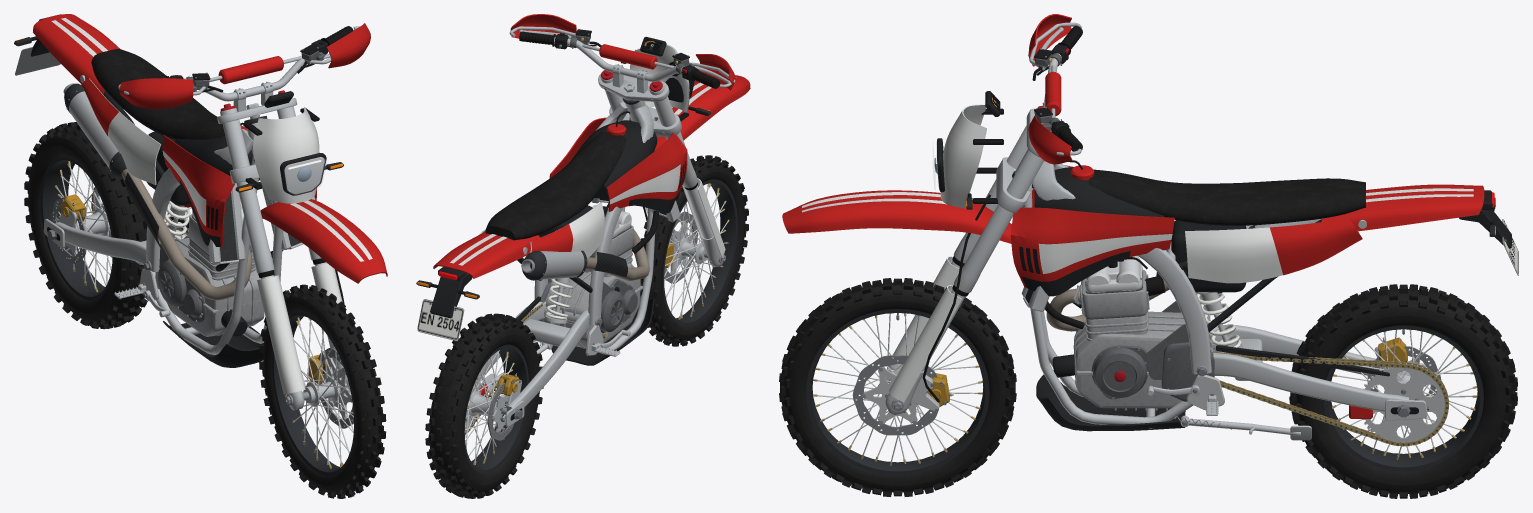
The model's file is Enduro.glb.
3 views of the same model, side by side, from view 1: azimuth 30°, elevation 25°; view 2: azimuth 150°, elevation 25°; view 3: azimuth 270°, elevation 25° (orthographic). The views are drawn at different scales.
Parts seen in each view (by area): view 1: Body, Fork, Wheel_Front, Wheel_Rear, Swingarm; view 2: Body, Wheel_Rear, Fork, Wheel_Front, Swingarm; view 3: Body, Wheel_Rear, Fork, Wheel_Front, Swingarm, Side_Stand.
Boxes of the visible parts, box(x1,y1,x2,y2) form: Body: box(14, 14, 316, 367); Fork: box(118, 23, 387, 410); Wheel_Front: box(259, 284, 386, 498); Wheel_Rear: box(24, 122, 147, 329); Swingarm: box(43, 187, 188, 273); Body: box(416, 98, 687, 365); Wheel_Rear: box(425, 313, 543, 498); Fork: box(509, 14, 750, 267); Wheel_Front: box(640, 155, 748, 346); Swingarm: box(464, 296, 591, 434); Body: box(1010, 149, 1518, 431); Wheel_Rear: box(1289, 284, 1517, 498); Fork: box(782, 14, 1082, 414); Wheel_Front: box(779, 278, 1016, 496); Swingarm: box(1211, 325, 1448, 446); Side_Stand: box(1174, 415, 1311, 440).
Size of the model in its own units: 0.916 by 1.36 by 2.16.
Materials: 48 (9 with a texture image).
